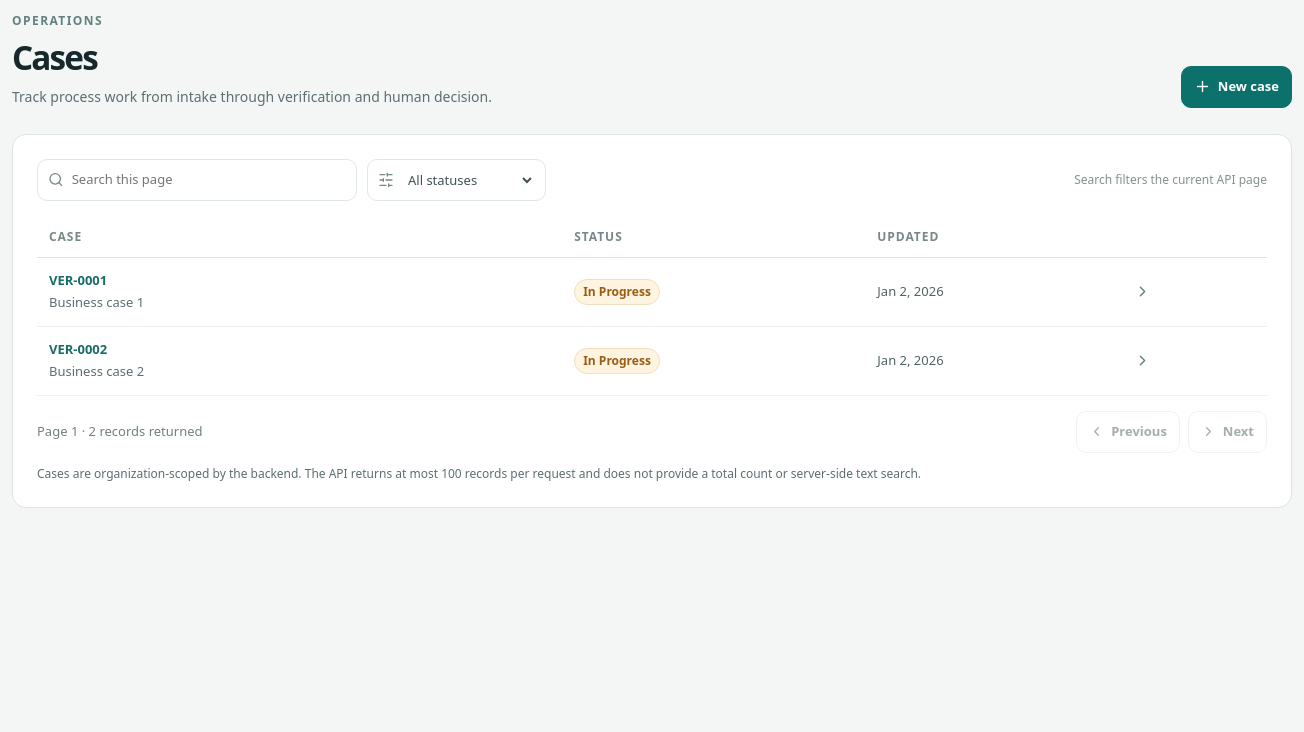
it: case register › shows API records and searches within the currently returned page
Check: the link "VER-0001" is shown, box [49, 271, 107, 290]
Type "0002" into the search field named "Search this page of cases".
click(209, 180); type("0002")  # box [72, 162, 346, 198]
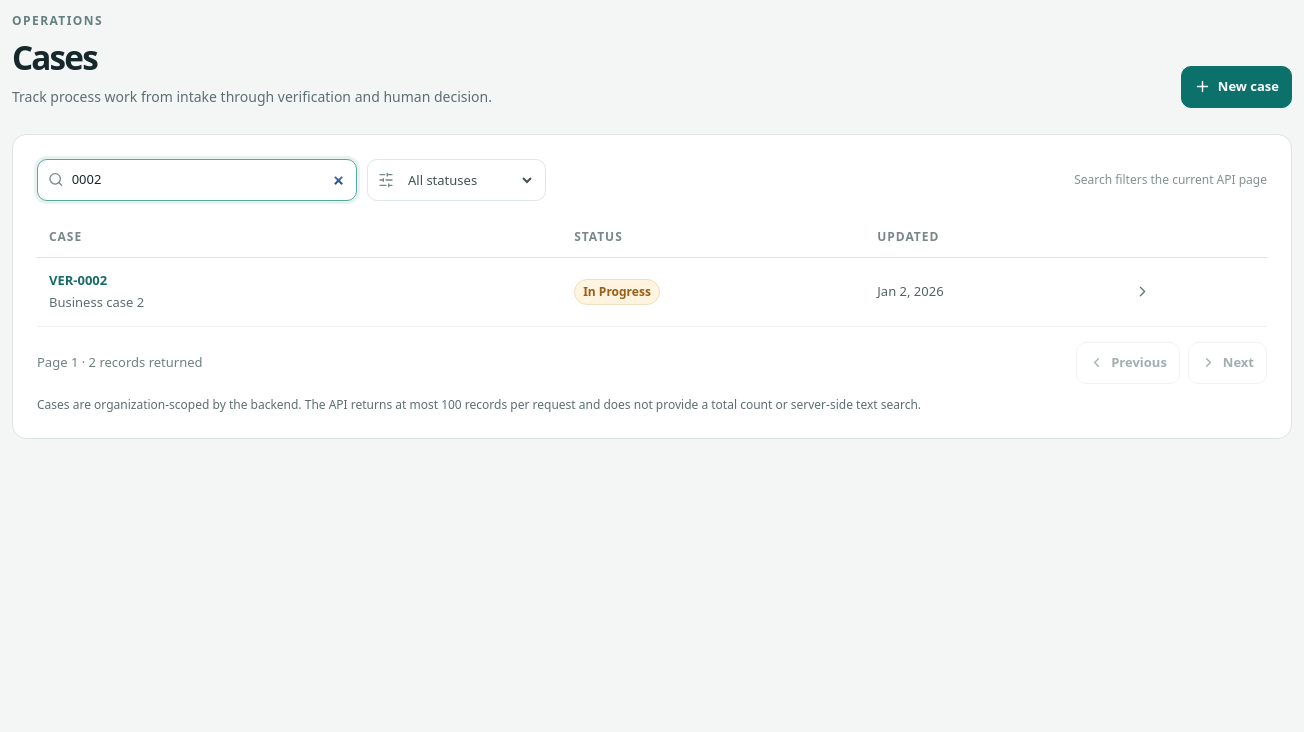
Check: the link "VER-0002" is shown, box [49, 271, 107, 290]
Check: the link "VER-0001" is gone
